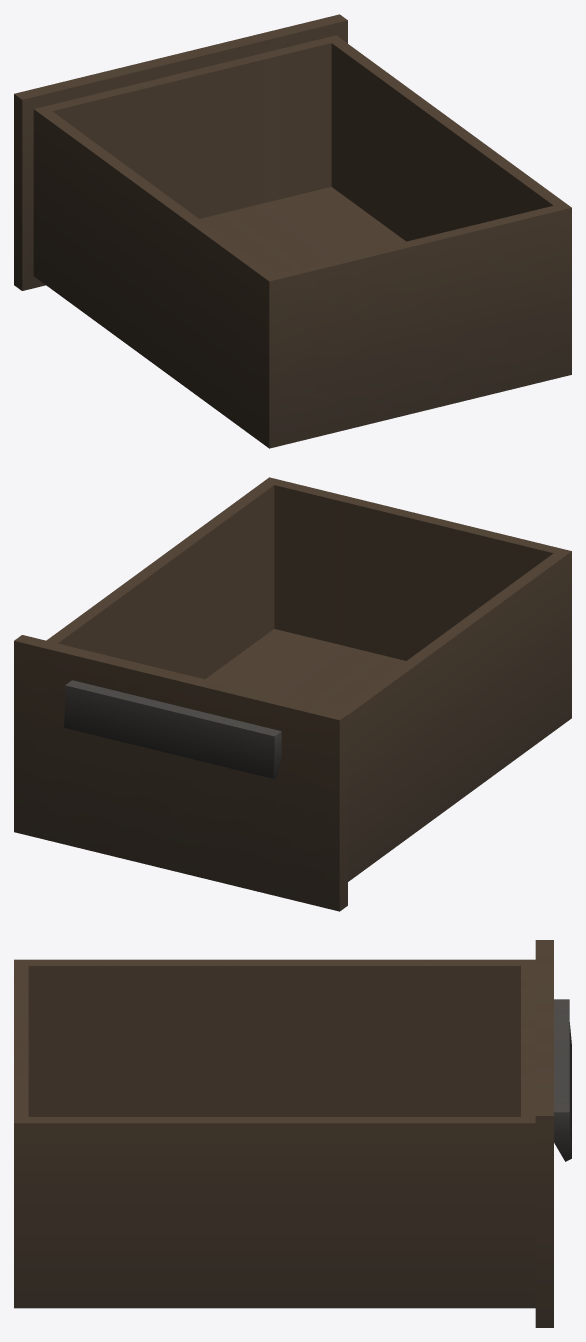
Rendered from Drawer_OfficeDesk2_Bottom.fbx.
The picture shows the model from 3 angles, top to bottom: view 1: azimuth 30°, elevation 25°; view 2: azimuth 150°, elevation 25°; view 3: azimuth 270°, elevation 25°; orthographic projection. The views are drawn at different scales.
Parts seen in each view (by area): view 1: Drawer_OfficeDesk2_Bottom; view 2: Drawer_OfficeDesk2_Bottom; view 3: Drawer_OfficeDesk2_Bottom.
Boxes of the visible parts, x1=… form: Drawer_OfficeDesk2_Bottom: x1=14, y1=14, x2=571, y2=448; Drawer_OfficeDesk2_Bottom: x1=14, y1=477, x2=571, y2=911; Drawer_OfficeDesk2_Bottom: x1=14, y1=940, x2=571, y2=1327.
Bounding box in the file's own units: 44.19 × 24.8 × 59.19.
